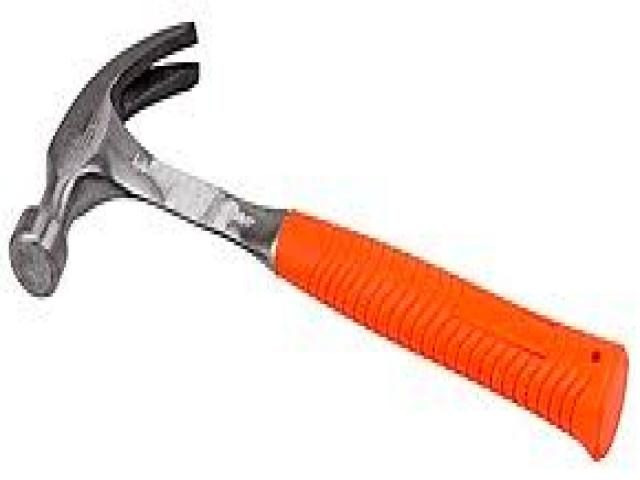Hammer: (10, 23, 628, 458)
